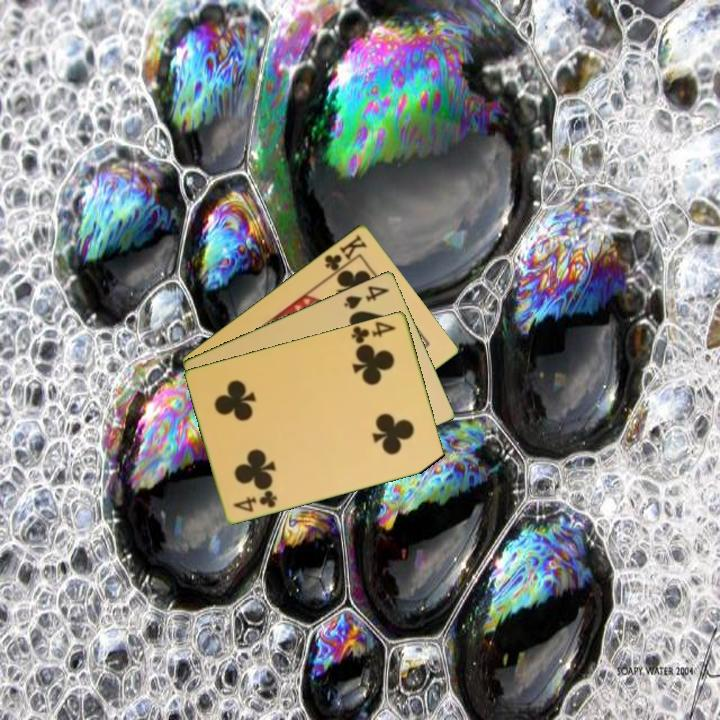4c: (230, 486, 280, 515), (348, 318, 399, 346)
4s: (340, 282, 392, 312)
Kc: (321, 231, 370, 279)
